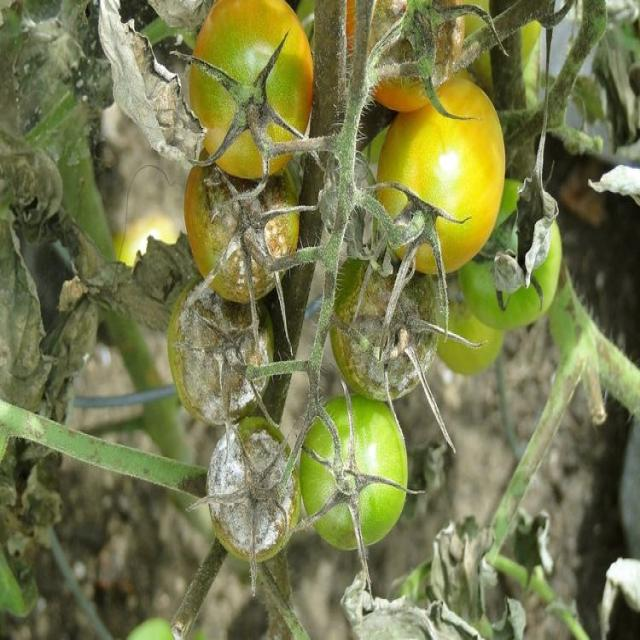damaged: (330, 253, 448, 411), (172, 162, 298, 294), (162, 281, 278, 423), (199, 422, 300, 570)
fine: (368, 83, 508, 289)
unripe: (186, 0, 314, 191), (296, 391, 405, 564), (476, 186, 563, 326)
